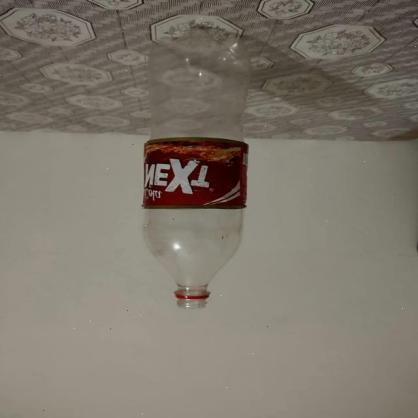bottle: (140, 29, 247, 310)
label: (140, 138, 251, 214)
